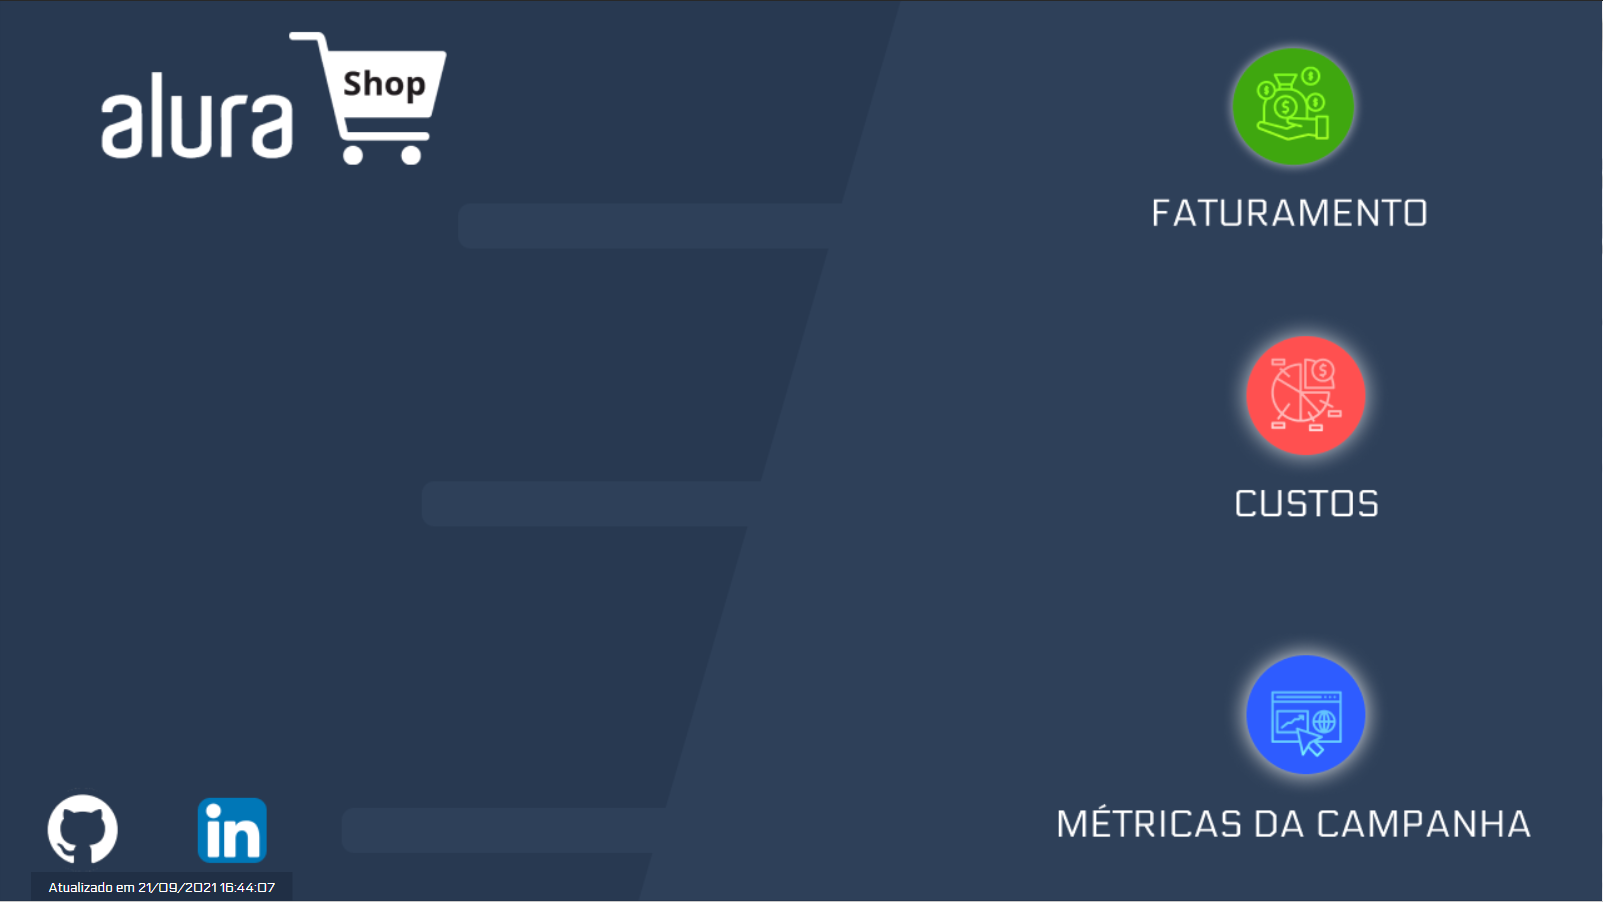

Layout of this report page (visuals, bound fields, positions):
{"tool":"powerbi","page":{"name":"Apresentação","canvas":[1280,720],"ordinal":0},"visuals":[{"type":"shape","box":[850.5,19,369.8,164],"z":0},{"type":"shape","box":[35.8,632.8,64.5,59.7],"z":1000},{"type":"shape","box":[152.8,632.8,64.5,59.7],"z":2000},{"type":"shape","box":[840.1,250.3,405.8,163.1],"z":3000},{"type":"shape","box":[840.1,515.8,405.8,163.1],"z":4000}]}

Visuals, with their boxes in screenshot pixels (x1, y1, x2, y2), scaled from the page's 1280x720 canvas onto the 1603x902 screenshot:
shape: Rect(1065, 24, 1528, 229)
shape: Rect(45, 793, 126, 868)
shape: Rect(191, 793, 272, 868)
shape: Rect(1052, 314, 1560, 518)
shape: Rect(1052, 646, 1560, 851)
